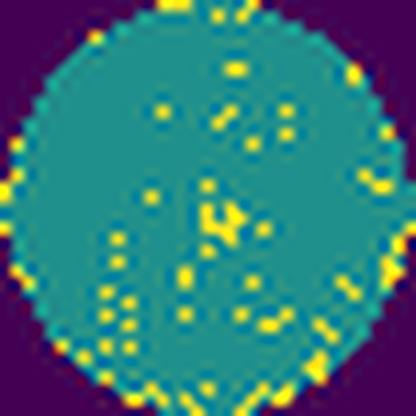Center: (194, 199, 257, 249)
